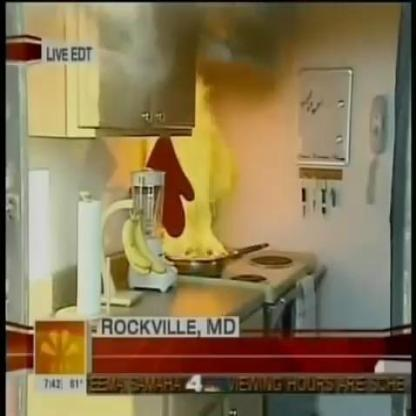fire: (147, 71, 231, 264)
